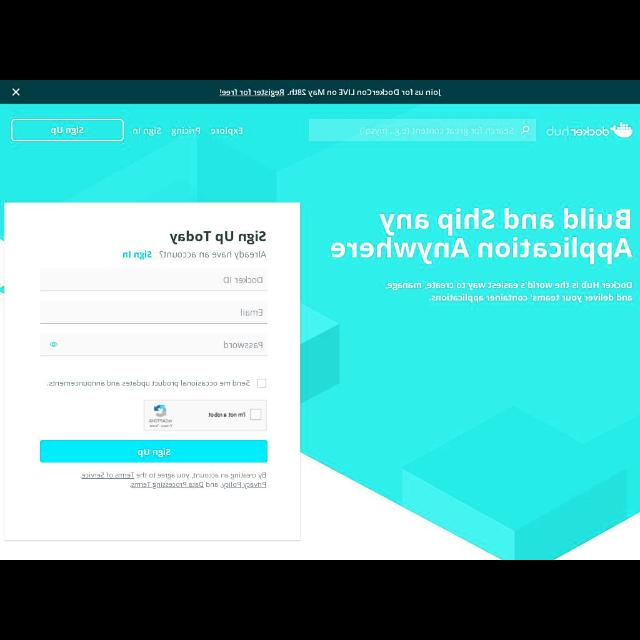checkbox: (250, 408, 262, 419), (258, 378, 266, 388)
icon: (10, 86, 20, 98), (520, 126, 530, 134), (50, 342, 58, 348)
image: (546, 121, 634, 141), (154, 404, 166, 416)
input: (41, 269, 267, 293), (42, 300, 266, 322), (42, 334, 266, 356), (308, 120, 536, 140)
text: (331, 208, 631, 268), (384, 279, 634, 305), (78, 470, 266, 490), (217, 88, 443, 100), (46, 380, 250, 390), (359, 126, 515, 138), (122, 249, 268, 261), (167, 230, 267, 244), (210, 124, 244, 138), (223, 276, 264, 286), (138, 446, 172, 458), (170, 125, 202, 136), (51, 126, 84, 136), (130, 126, 162, 136), (147, 417, 173, 429), (208, 411, 246, 419), (238, 309, 264, 319), (223, 342, 265, 348)
textbutton: (12, 118, 122, 140)
